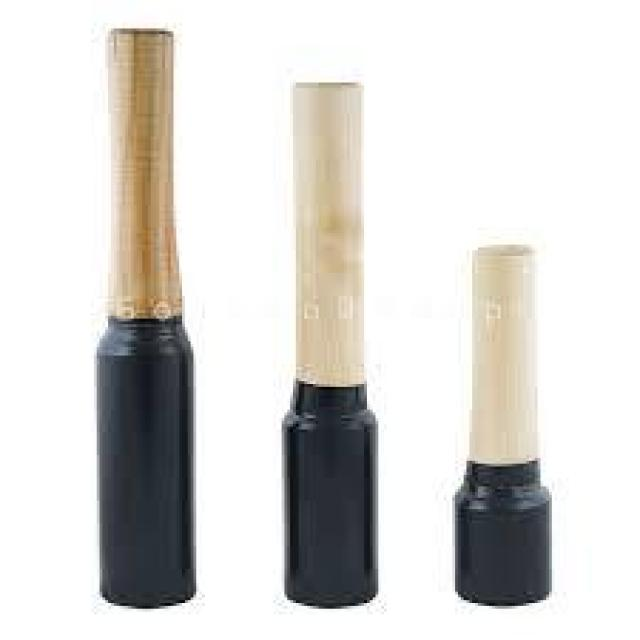grenade: (95, 27, 197, 612), (277, 77, 381, 609), (449, 243, 556, 612)
